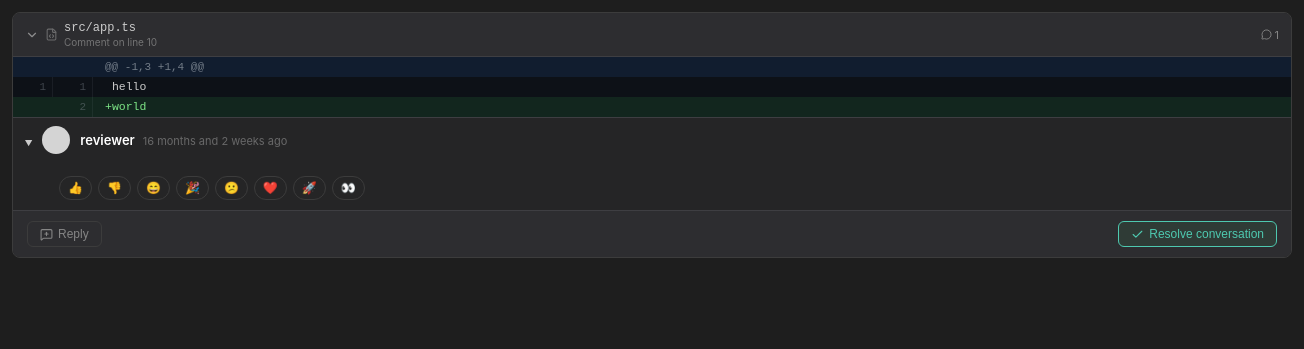
Scenario: ReviewThreadCard › shows reply form when Reply button is clicked
Click the button "Reply": (64, 234) [27, 221, 102, 247]
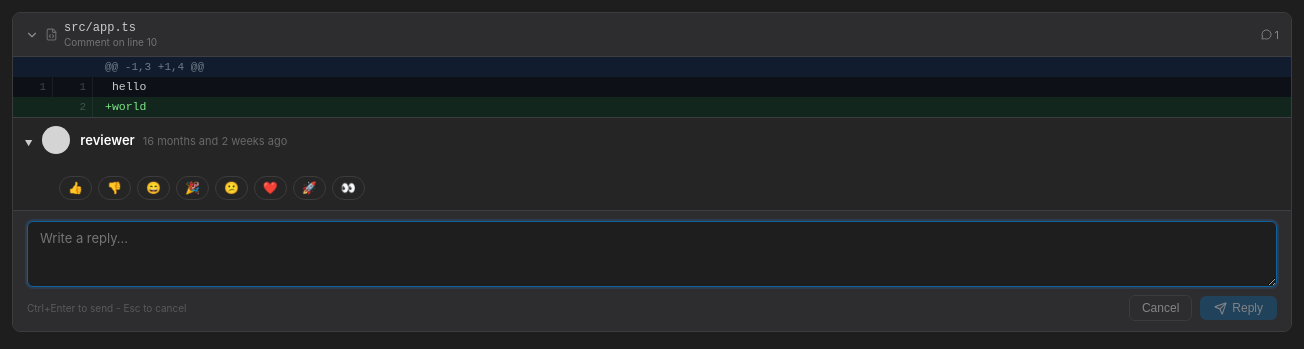
Expected: the text box with placeholder "Write a reply…" is shown, [27, 221, 1277, 287]
